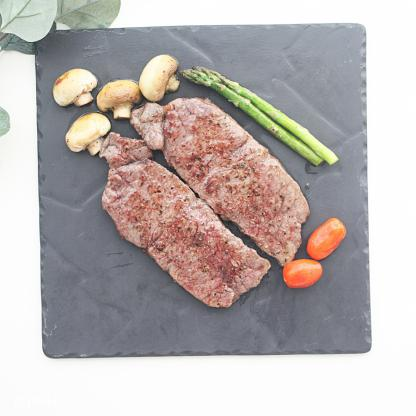Carne: (86, 132, 267, 308), (130, 96, 311, 266)
